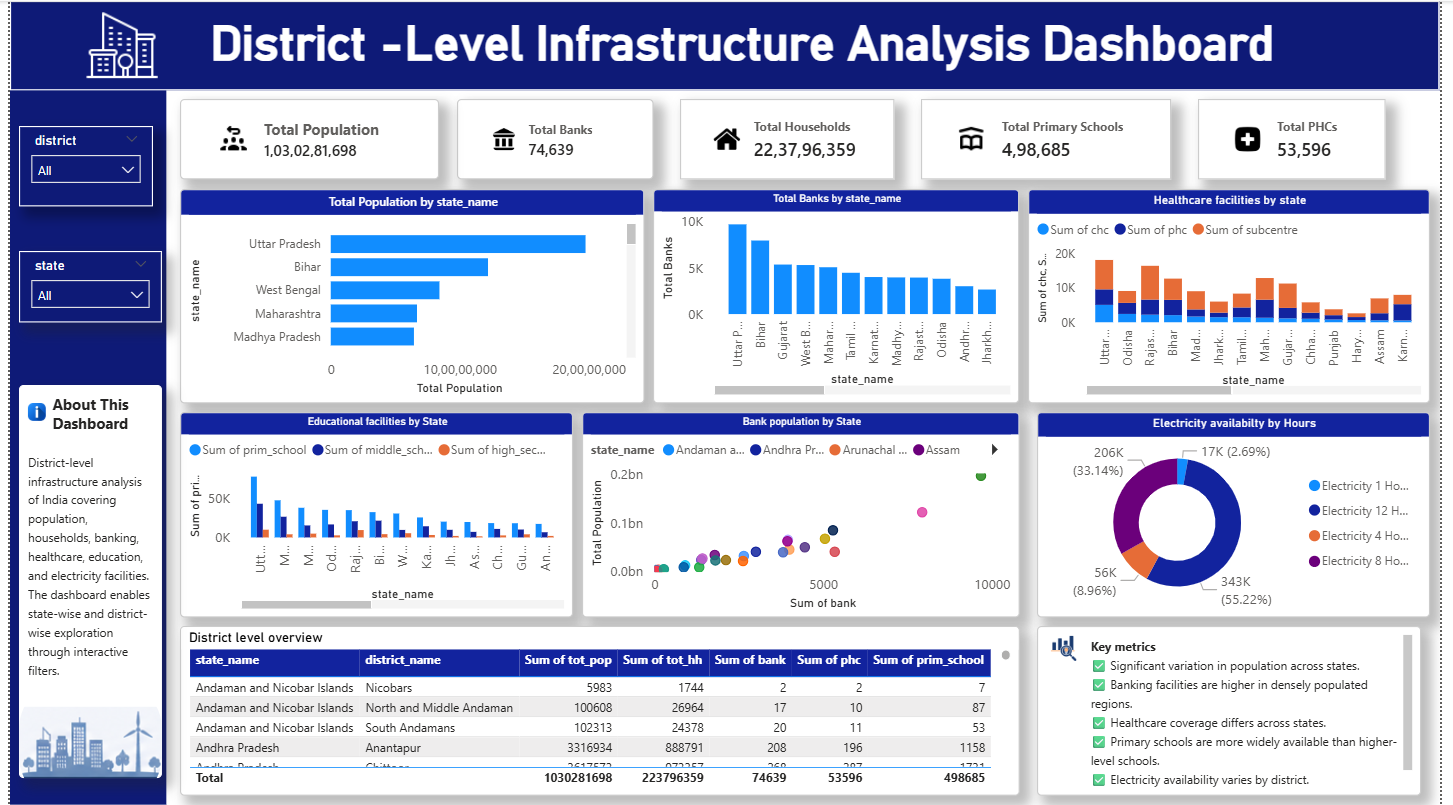

This screenshot's page, from the dashboard's own definition file:
{"tool":"powerbi","page":{"name":"Dashboard","canvas":[1280,720],"ordinal":0},"visuals":[{"type":"shape","box":[0,80,140,640],"z":0},{"type":"slicer","fields":{"Values":["Table1.state_name"]},"box":[8,224,128,64],"z":1000},{"type":"slicer","fields":{"Values":["Table1.district_name"]},"box":[8,112,120,72],"z":2000},{"type":"shape","box":[0,0,1280,80],"z":3000},{"type":"cardVisual","fields":{"Data":["Table1.Total Banks"]},"box":[400,88,176,72],"z":4000},{"type":"cardVisual","fields":{"Data":["Table1.Total Households"]},"box":[600,88,192,72],"z":5000},{"type":"cardVisual","fields":{"Data":["Table1.Total PHCs"]},"box":[1064,88,168,72],"z":6000},{"type":"cardVisual","fields":{"Data":["Table1.Total Primary Schools"]},"box":[816,88,224,72],"z":7000},{"type":"cardVisual","fields":{"Data":["Table1.Total Population"]},"box":[152,88,232,72],"z":8000},{"type":"clusteredBarChart","fields":{"Category":["Table1.state_name"],"Y":["Table1.Total Population"]},"box":[152,168,416,192],"z":9000},{"type":"clusteredColumnChart","fields":{"Category":["Table1.state_name"],"Y":["Table1.Total Banks"]},"box":[576,168,328,192],"z":10000},{"type":"columnChart","title":"Healthcare facilities by state","fields":{"Category":["Table1.state_name"],"Y":["Sum(Table1.chc)","Sum(Table1.phc)","Sum(Table1.subcentre)"]},"box":[912,168,360,192],"z":11000},{"type":"clusteredColumnChart","title":"Educational facilities by State","fields":{"Category":["Table1.state_name"],"Y":["Sum(Table1.prim_school)","Sum(Table1.middle_school)","Sum(Table1.high_second_school)"]},"box":[152,368,352,184],"z":12000},{"type":"scatterChart","title":"Bank population by State","fields":{"X":["Sum(Table1.bank)"],"Y":["Table1.Total Population"],"Series":["Table1.state_name"]},"box":[512,368,392,184],"z":13000},{"type":"donutChart","title":"Electricity availabilty by Hours","fields":{"Y":["Table1.Electricity 1 Hour","Table1.Electricity 12 Hours","Table1.Electricity 4 Hours","Table1.Electricity 8 Hours"]},"box":[920,368,352,184],"z":14000},{"type":"tableEx","title":"District level overview","fields":{"Values":["Table1.state_name","Table1.district_name","Sum(Table1.tot_pop)","Sum(Table1.tot_hh)","Sum(Table1.bank)","Sum(Table1.phc)","Sum(Table1.prim_school)"]},"box":[152,560,752,152],"z":15000},{"type":"textbox","box":[104,8,1104,64],"z":17500},{"type":"textbox","box":[8,344,128,352],"z":17501},{"type":"image","box":[8,608,128,112],"z":17502},{"type":"image","box":[8,360,32,16],"z":17503},{"type":"textbox","box":[920,560,344,152],"z":17504},{"type":"image","box":[904,568,80,24],"z":17505},{"type":"image","box":[56,8,88,64],"z":17506}]}

Visuals, with their boxes in screenshot pixels (x1, y1, x2, y2), scaled from the page's 1280x720 canvas onto the 1453x805 screenshot:
shape: {"left": 0, "top": 89, "right": 159, "bottom": 804}
slicer - Table1.state_name: {"left": 9, "top": 250, "right": 154, "bottom": 322}
slicer - Table1.district_name: {"left": 9, "top": 125, "right": 145, "bottom": 206}
shape: {"left": 0, "top": 0, "right": 1452, "bottom": 89}
cardVisual - Table1.Total Banks: {"left": 454, "top": 98, "right": 654, "bottom": 179}
cardVisual - Table1.Total Households: {"left": 681, "top": 98, "right": 899, "bottom": 179}
cardVisual - Table1.Total PHCs: {"left": 1208, "top": 98, "right": 1399, "bottom": 179}
cardVisual - Table1.Total Primary Schools: {"left": 926, "top": 98, "right": 1181, "bottom": 179}
cardVisual - Table1.Total Population: {"left": 173, "top": 98, "right": 436, "bottom": 179}
clusteredBarChart - Table1.state_name x Table1.Total Population: {"left": 173, "top": 188, "right": 645, "bottom": 402}
clusteredColumnChart - Table1.state_name x Table1.Total Banks: {"left": 654, "top": 188, "right": 1026, "bottom": 402}
"Healthcare facilities by state" columnChart: {"left": 1035, "top": 188, "right": 1444, "bottom": 402}
"Educational facilities by State" clusteredColumnChart: {"left": 173, "top": 411, "right": 572, "bottom": 617}
"Bank population by State" scatterChart: {"left": 581, "top": 411, "right": 1026, "bottom": 617}
"Electricity availabilty by Hours" donutChart: {"left": 1044, "top": 411, "right": 1444, "bottom": 617}
"District level overview" tableEx: {"left": 173, "top": 626, "right": 1026, "bottom": 796}
textbox: {"left": 118, "top": 9, "right": 1371, "bottom": 80}
textbox: {"left": 9, "top": 385, "right": 154, "bottom": 778}
image: {"left": 9, "top": 680, "right": 154, "bottom": 804}
image: {"left": 9, "top": 402, "right": 45, "bottom": 420}
textbox: {"left": 1044, "top": 626, "right": 1435, "bottom": 796}
image: {"left": 1026, "top": 635, "right": 1117, "bottom": 662}
image: {"left": 64, "top": 9, "right": 163, "bottom": 80}
